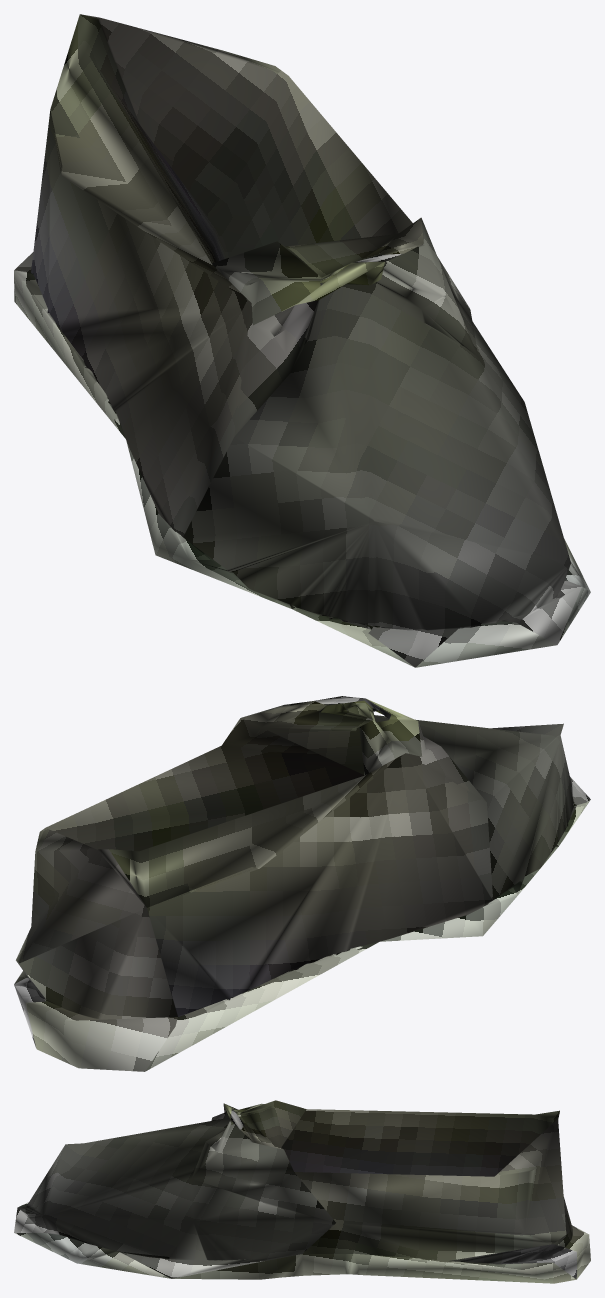
File: Womens_Authentic_Original_Boat_Shoe_in_Classic_Brown_Leather_48Nh7VuMwW6-low.glb
3 views of the same model, one above another, from view 1: azimuth 30°, elevation 25°; view 2: azimuth 150°, elevation 25°; view 3: azimuth 270°, elevation 25° (orthographic). The views are drawn at different scales.
Visible parts, largest first — view 1: Womens_Authentic_Original_Boat_Shoe_in_Classic_Brown_Leather; view 2: Womens_Authentic_Original_Boat_Shoe_in_Classic_Brown_Leather; view 3: Womens_Authentic_Original_Boat_Shoe_in_Classic_Brown_Leather.
Boxes of the visible parts, x1=… form: Womens_Authentic_Original_Boat_Shoe_in_Classic_Brown_Leather: x1=14, y1=14, x2=590, y2=667; Womens_Authentic_Original_Boat_Shoe_in_Classic_Brown_Leather: x1=14, y1=696, x2=590, y2=1071; Womens_Authentic_Original_Boat_Shoe_in_Classic_Brown_Leather: x1=14, y1=1100, x2=590, y2=1283.
Bounding box in the file's own units: 0.0963 × 0.0694 × 0.2437.
Materials: 1 (1 with a texture image).
